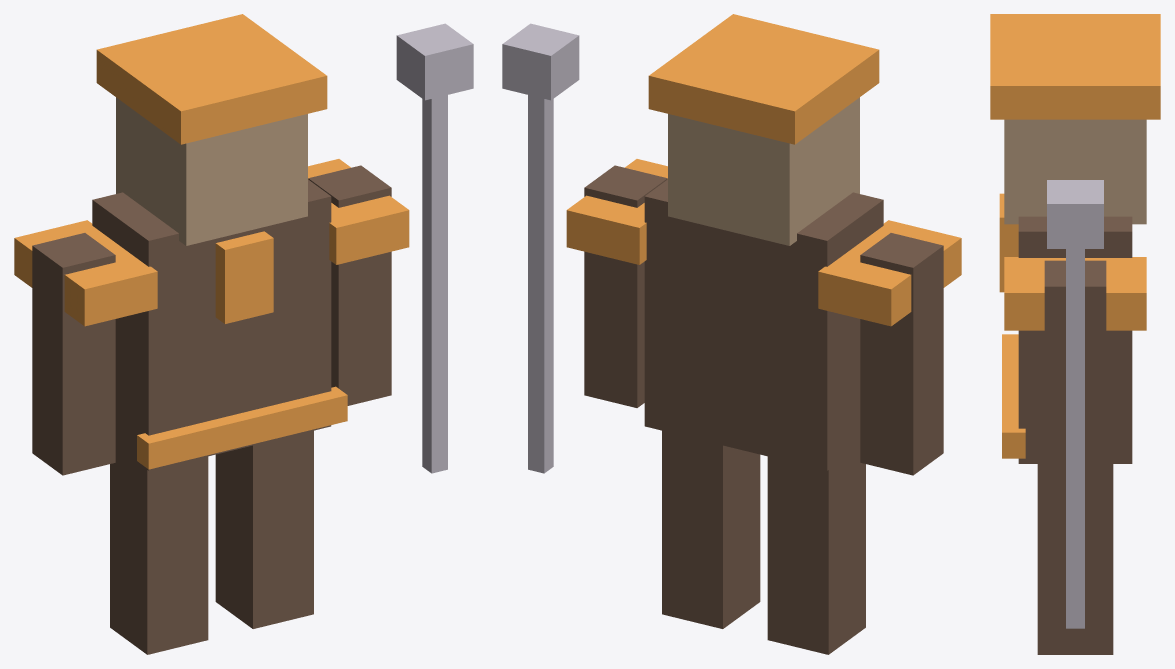
File: 19_rook_cragwarden_specialist_at_spark.glb
3 views of the same model, side by side, from view 1: azimuth 30°, elevation 25°; view 2: azimuth 150°, elevation 25°; view 3: azimuth 270°, elevation 25° (orthographic).
Parts seen in each view (by area): view 1: Rook Cragwarden, Specialist at Spark; view 2: Rook Cragwarden, Specialist at Spark; view 3: Rook Cragwarden, Specialist at Spark.
Part boxes in pixels (left/top/right/bottom): Rook Cragwarden, Specialist at Spark: left=14, top=14, right=473, bottom=654; Rook Cragwarden, Specialist at Spark: left=502, top=14, right=961, bottom=654; Rook Cragwarden, Specialist at Spark: left=990, top=14, right=1160, bottom=654.
Bounding box in the file's own units: 1.11 × 1.44 × 0.3954.
